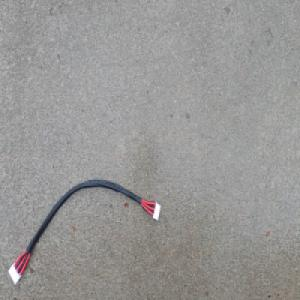Wire: (7, 177, 161, 285)
